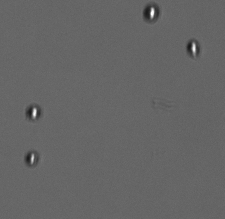Living Cell: (141, 1, 161, 24), (186, 37, 202, 59), (25, 102, 43, 121), (24, 149, 38, 167)
